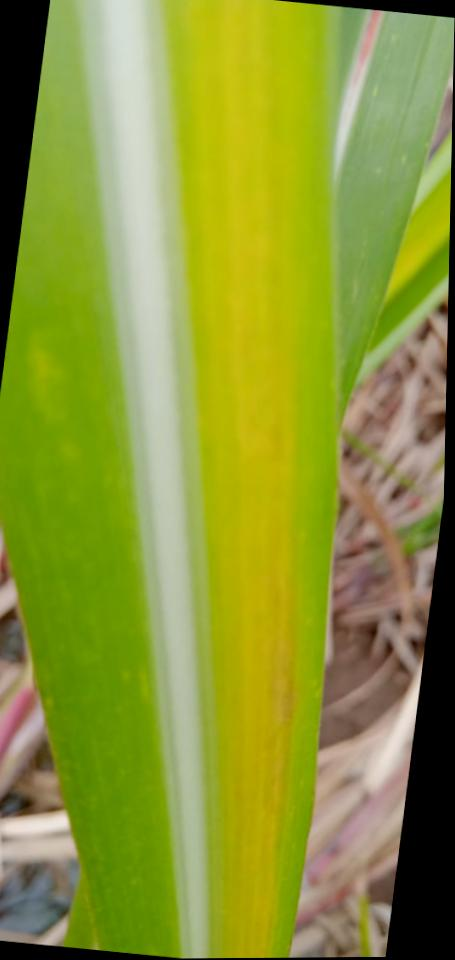RedRot: (351, 10, 380, 86)
Yellow: (229, 149, 295, 958)
